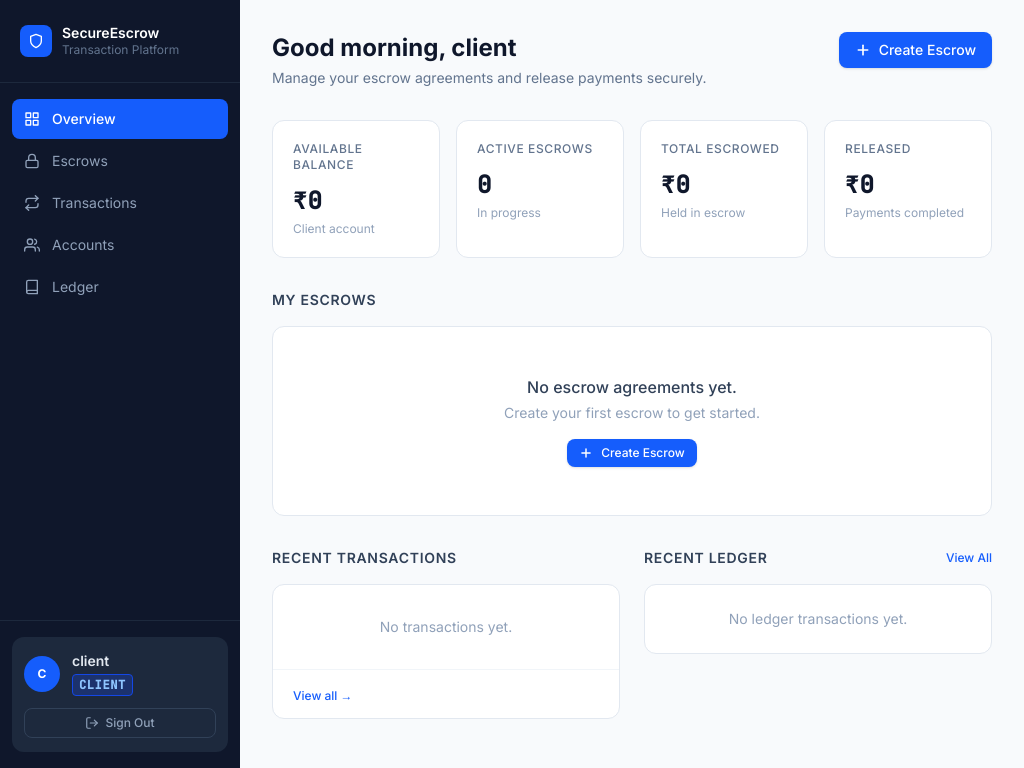
Scenario: dashboard initial data loading › loads providers for escrow creation after restoring a client session
Later steps or results of the test are not shown.
Click the button "Create Escrow" in the row of "Good morning" at (915, 50), box 839,32 -> 992,68
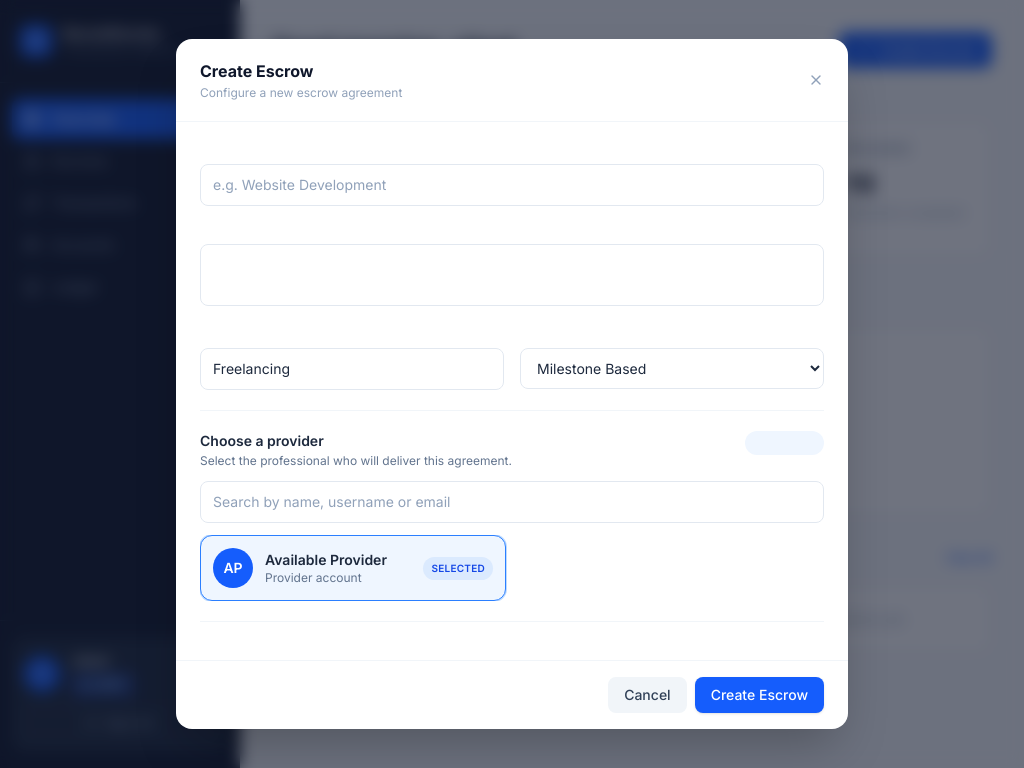
Now the button "AP Available Provider Provider account Selected" is shown, box 200,535 -> 506,601
